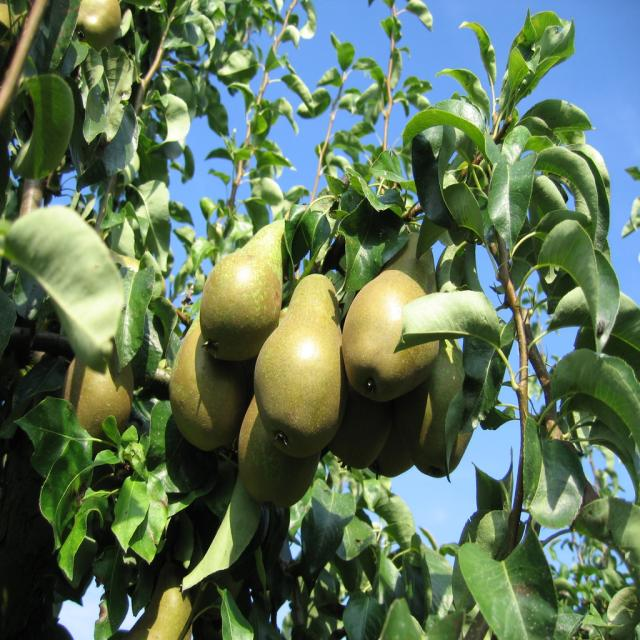pear: (168, 218, 483, 516), (62, 338, 138, 462), (123, 576, 193, 640), (76, 0, 121, 41), (0, 0, 21, 37)
